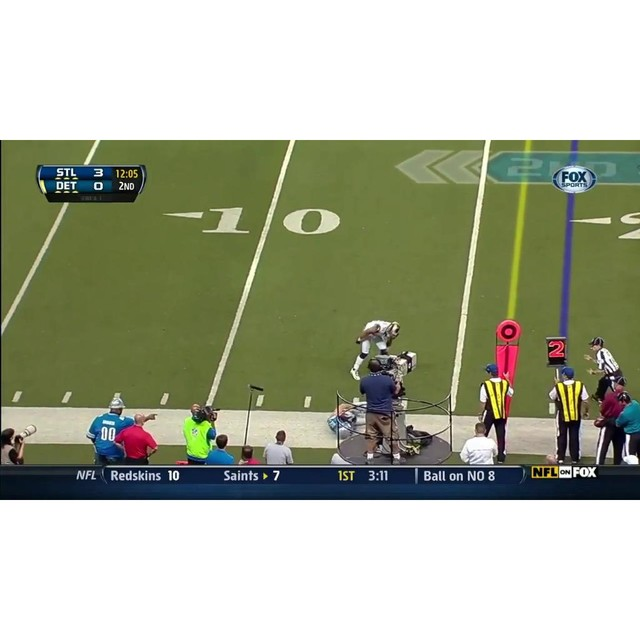referee: (585, 336, 625, 405)
